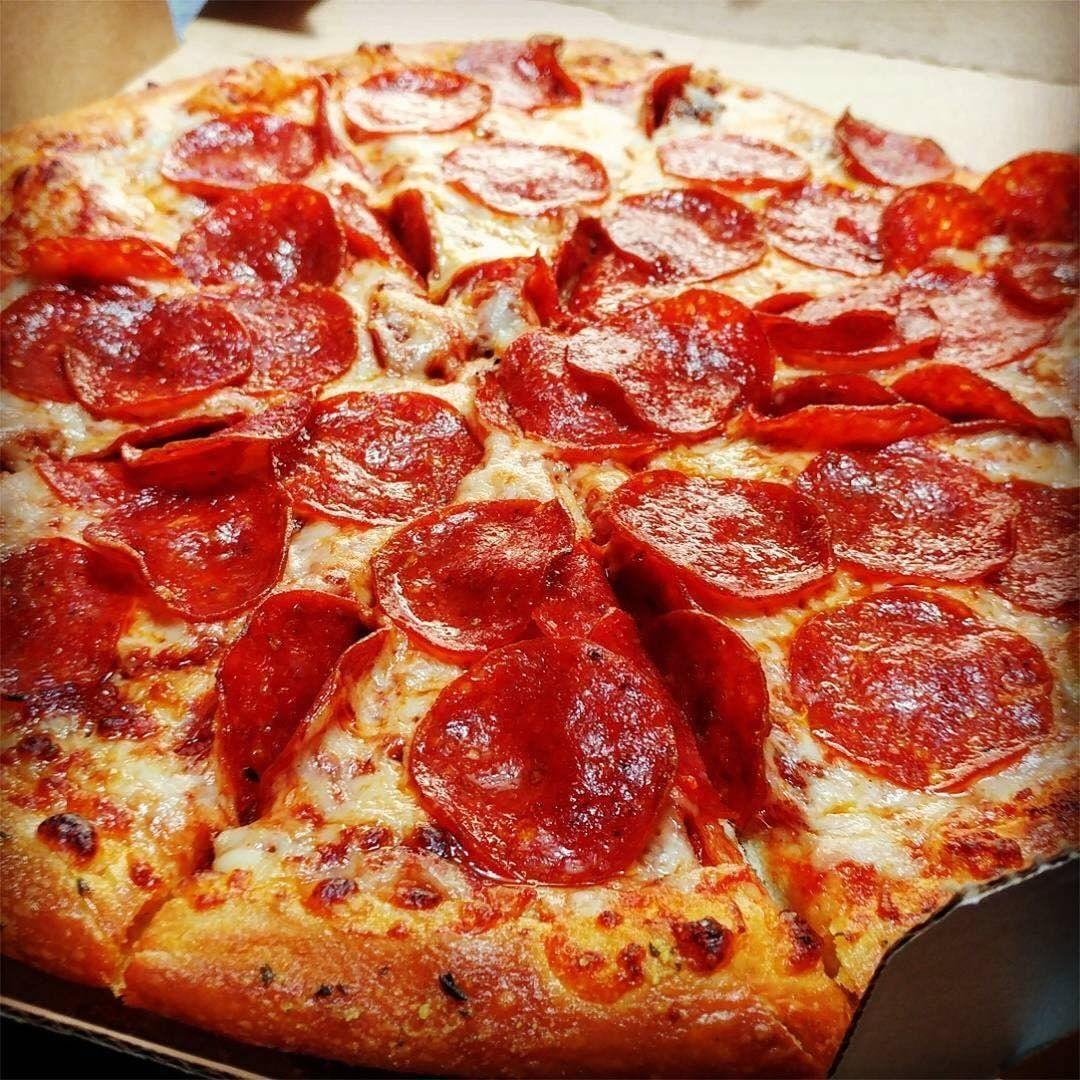Pepperoni: (399, 628, 689, 896), (788, 587, 1062, 791), (202, 590, 403, 833), (362, 493, 631, 662), (28, 378, 324, 504), (625, 606, 782, 839), (581, 467, 840, 603), (84, 468, 301, 627), (565, 280, 769, 437), (268, 379, 487, 525), (473, 320, 682, 464), (163, 166, 354, 299), (360, 258, 559, 384), (0, 529, 139, 708), (729, 286, 963, 388), (62, 296, 249, 421), (566, 178, 779, 286), (470, 204, 689, 299), (156, 99, 332, 216), (853, 169, 1012, 293), (732, 364, 963, 446), (209, 282, 373, 393), (736, 173, 901, 283), (898, 363, 1080, 458), (431, 127, 618, 216), (19, 215, 212, 299), (0, 276, 105, 421), (310, 181, 450, 282), (323, 64, 504, 142), (633, 121, 813, 199), (815, 102, 970, 188), (970, 130, 1080, 249), (962, 231, 1080, 333), (490, 27, 600, 120), (605, 50, 707, 138)
Pizza: (0, 27, 1080, 1080)
